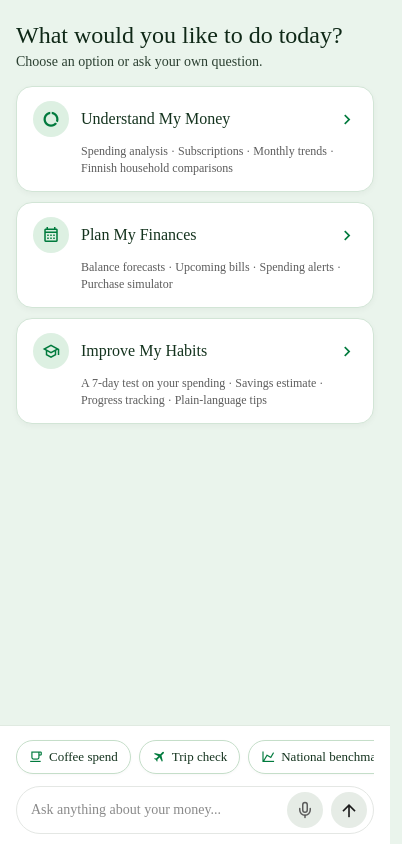
Scenario: first view and the three functions › hides the cards, chips and heading after a message is sent
The width and height of the screenshot is (402, 844).
Type "hello" into the field named "Message".
click(155, 810); type("hello")  # box [31,790,279,830]
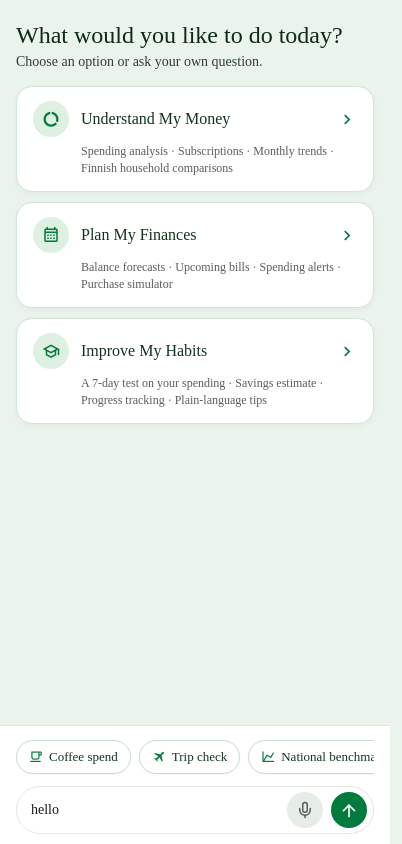
Click the button named "Send".
click(349, 810)  # box [331,792,367,828]
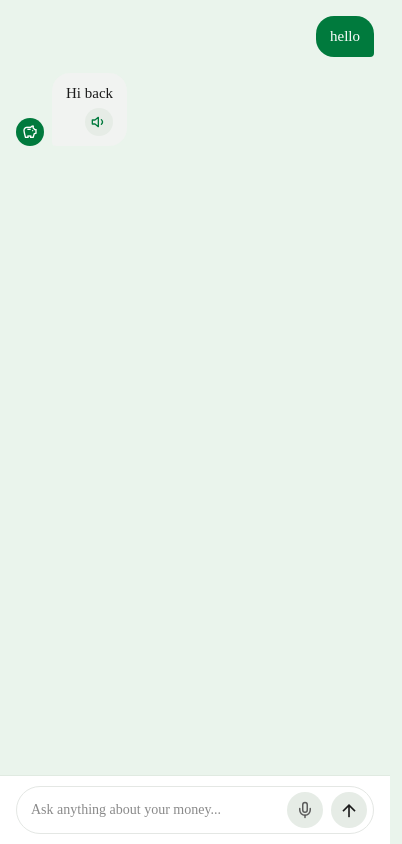
Check: the text "Hi back" is shown, box [66,83,113,104]
Check: the button "Understand My Money" is gone
Check: the heading "What would you like to do today?" is gone
